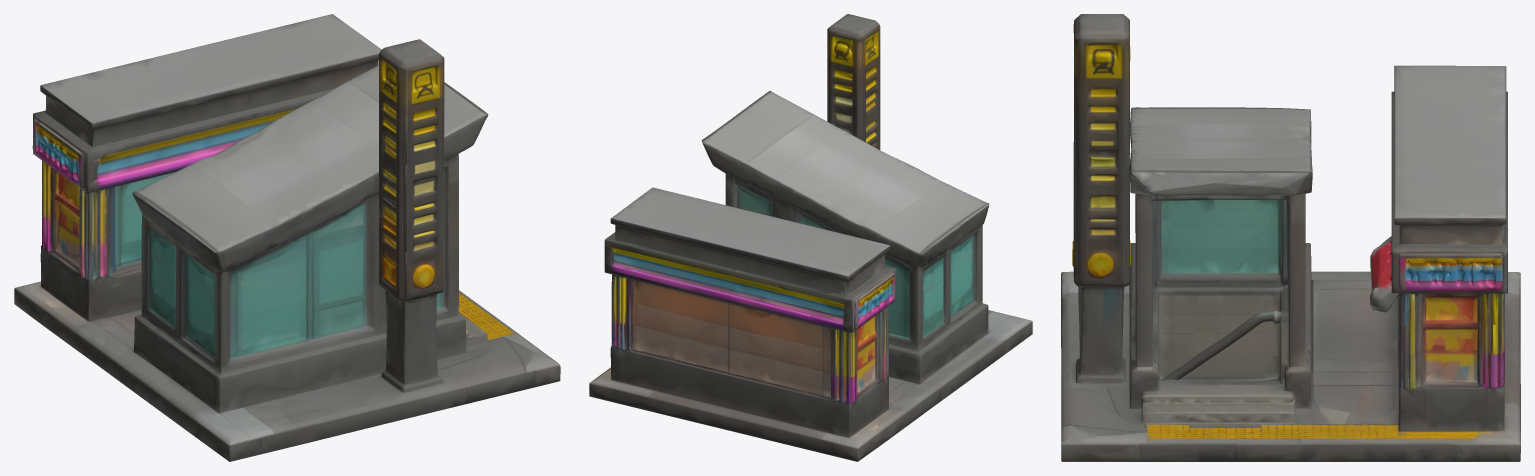
Rendered from itaewon-station.glb.
3 views of the same model, side by side, from view 1: azimuth 30°, elevation 25°; view 2: azimuth 150°, elevation 25°; view 3: azimuth 270°, elevation 25° (orthographic). The views are drawn at different scales.
Parts seen in each view (by area): view 1: tripo_node_7ea85f30-8500-495f-aca0-ddcc038a6a8c; view 2: tripo_node_7ea85f30-8500-495f-aca0-ddcc038a6a8c; view 3: tripo_node_7ea85f30-8500-495f-aca0-ddcc038a6a8c.
Boxes of the visible parts, x1,y1,x2,y2 form: tripo_node_7ea85f30-8500-495f-aca0-ddcc038a6a8c: (14, 14, 560, 461); tripo_node_7ea85f30-8500-495f-aca0-ddcc038a6a8c: (589, 14, 1032, 461); tripo_node_7ea85f30-8500-495f-aca0-ddcc038a6a8c: (1061, 14, 1520, 461).
Bounding box in the file's own units: 0.889 × 0.993 × 0.9999.
Materials: 1 (1 with a texture image).
